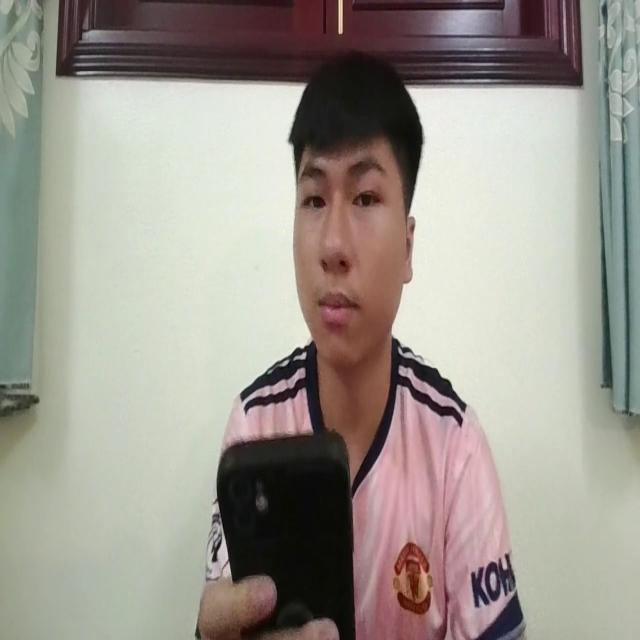phone: (213, 428, 357, 640)
student: (201, 49, 525, 640)
